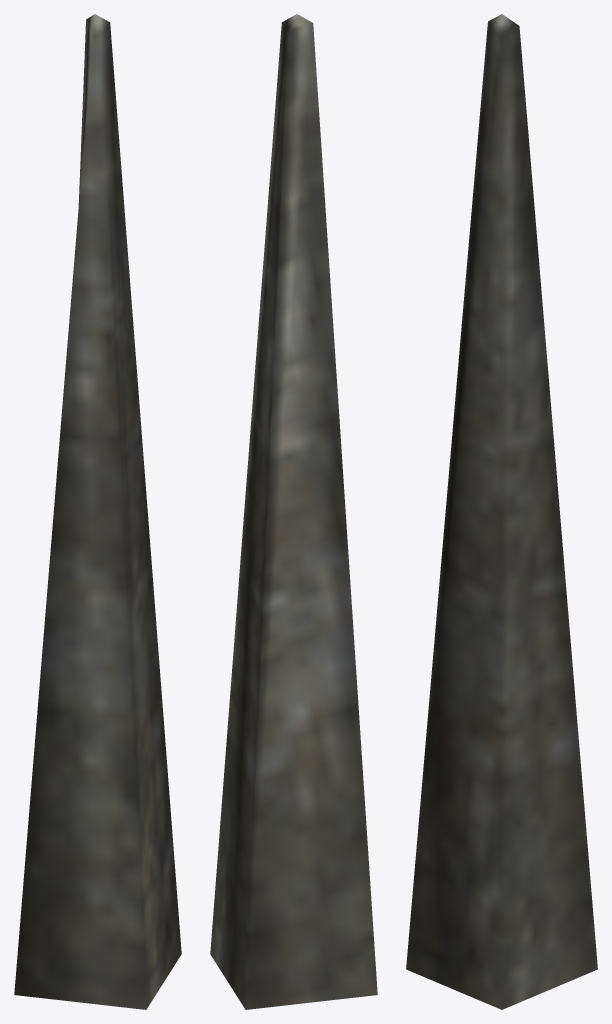
Rendered from Stall_small1_LOD1.fbx.
3 views of the same model, side by side, from view 1: azimuth 30°, elevation 25°; view 2: azimuth 150°, elevation 25°; view 3: azimuth 270°, elevation 25° (orthographic).
Parts seen in each view (by area): view 1: pCylinder32; view 2: pCylinder32; view 3: pCylinder32.
Boxes of the visible parts, left/top/right/bottom form: pCylinder32: left=14, top=14, right=181, bottom=1009; pCylinder32: left=210, top=14, right=377, bottom=1009; pCylinder32: left=406, top=14, right=597, bottom=1009.
Size of the model in its own units: 0.4465 by 2.45 by 0.4465.
